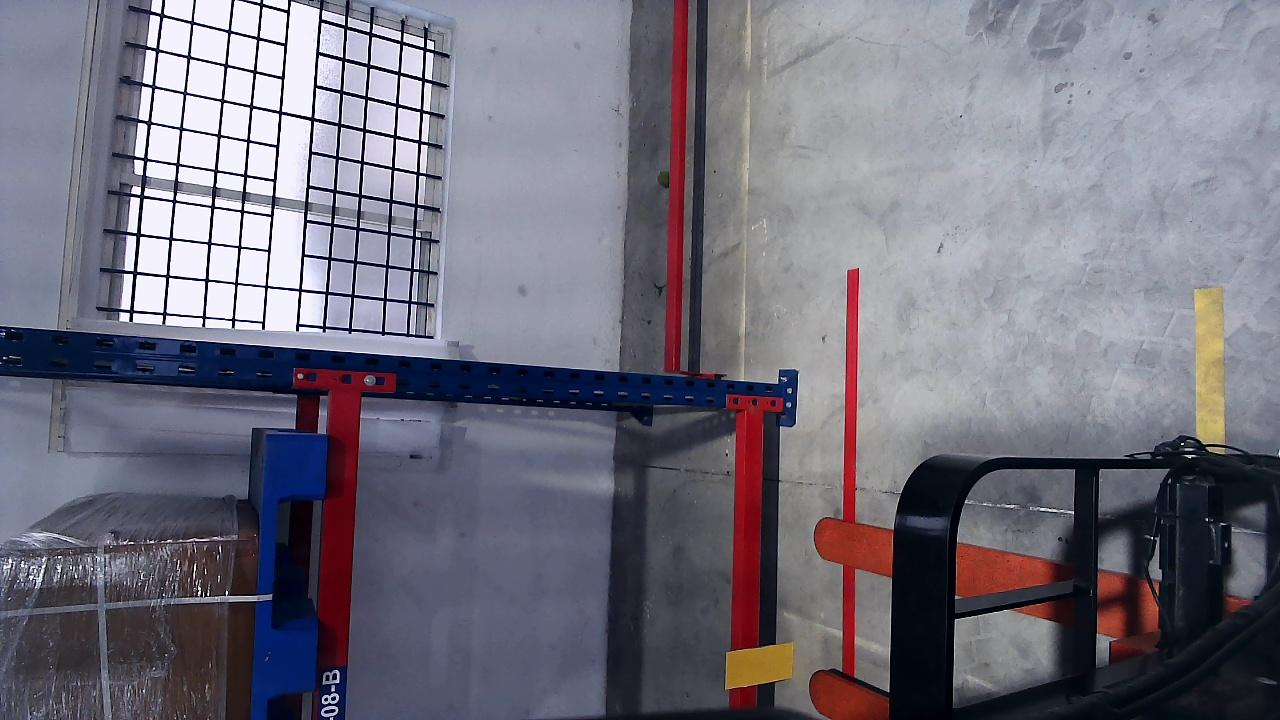h_rack: (313, 389, 363, 719), (732, 410, 768, 708)
orange_strip: (725, 642, 795, 689)
red_line: (842, 267, 862, 517)
small_pallet: (248, 435, 329, 718)
yellow_line: (1194, 286, 1224, 444)
